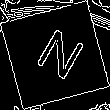N_SW: (25, 23, 85, 87)
